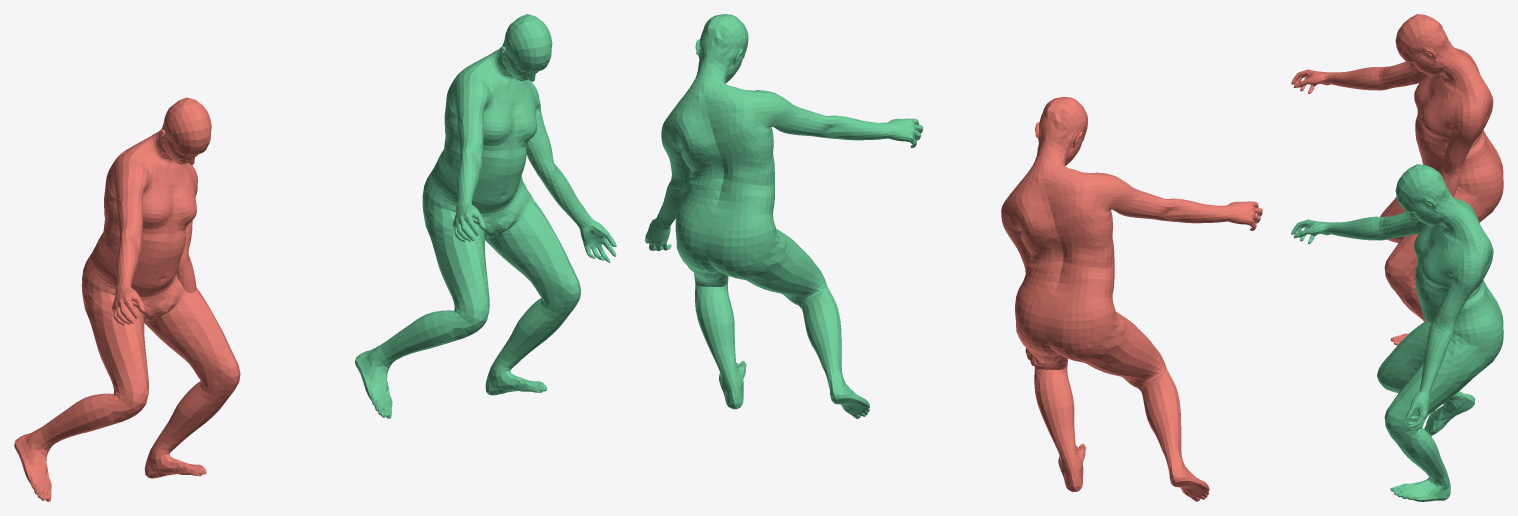
The model's file is pose_412_before_after.glb.
3 renders of one model, left to right at view 1: azimuth 30°, elevation 25°; view 2: azimuth 150°, elevation 25°; view 3: azimuth 270°, elevation 25°, orthographic. The views are drawn at different scales.
Parts seen in each view (by area): view 1: poseshield_green, input_red; view 2: poseshield_green, input_red; view 3: poseshield_green, input_red.
Part boxes in pixels (<box>): poseshield_green: <box>355,14,616,418</box>; input_red: <box>14,97,240,501</box>; poseshield_green: <box>645,14,923,418</box>; input_red: <box>1001,97,1262,501</box>; poseshield_green: <box>1291,164,1503,501</box>; input_red: <box>1291,14,1503,345</box>.
Size of what is drawn, in the model's own units: 2.29 by 1.45 by 0.8158.
